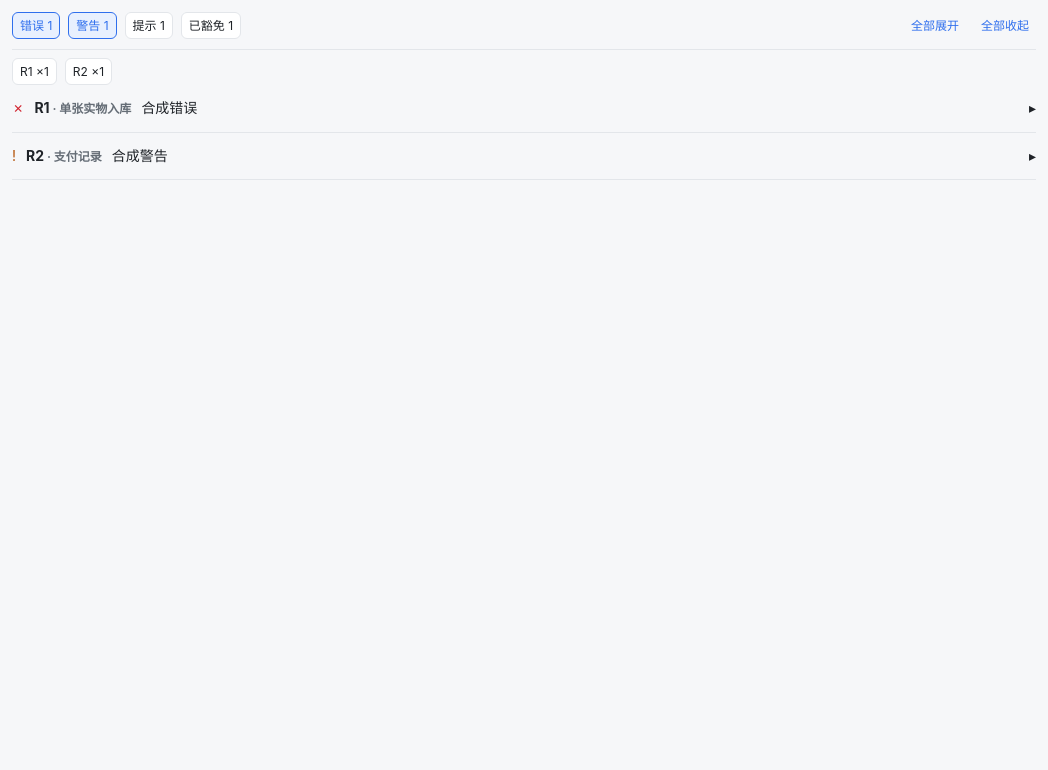
Test case: 级别 chips 默认选错误和警告，按严重级合并排序，规则筛选和展开只作用于可见条目
Expected: the number of buttons "全部展开" is 1, left=904, top=13, right=966, bottom=38
Click the button "提示 1" at (149, 26), box left=125, top=12, right=173, bottom=39
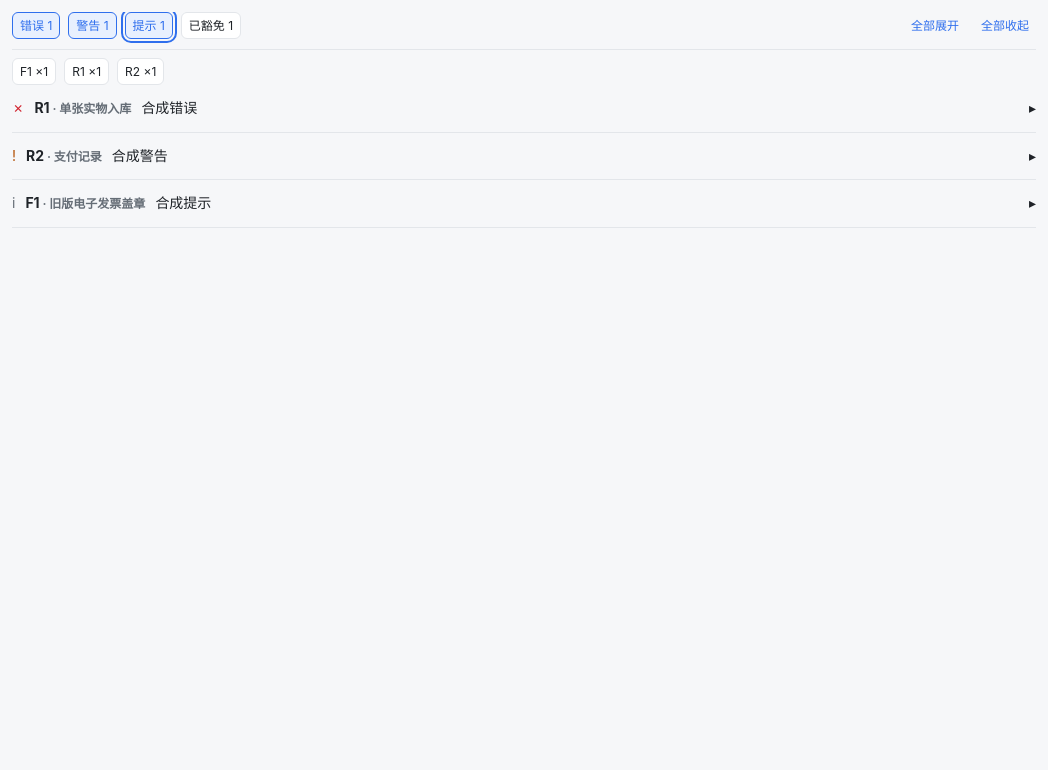
Click the button "已豁免 1" at (211, 26), box left=181, top=12, right=241, bottom=39
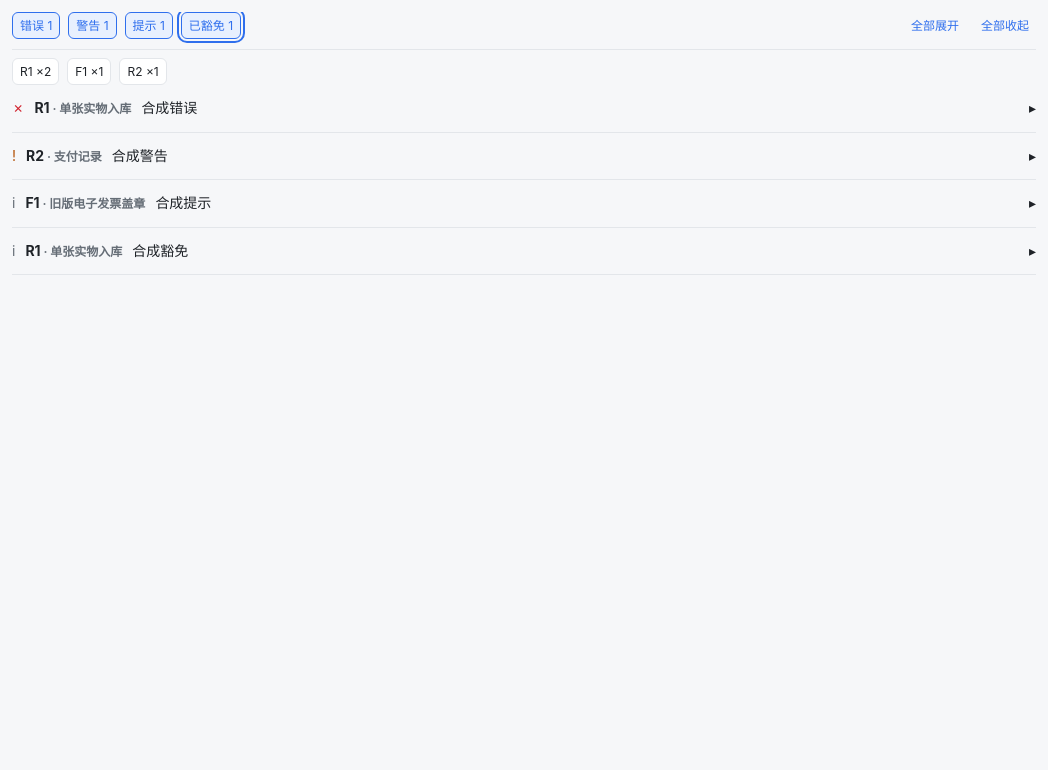
Click the button named "只看规则 R1" at (36, 72), box left=12, top=58, right=59, bottom=85
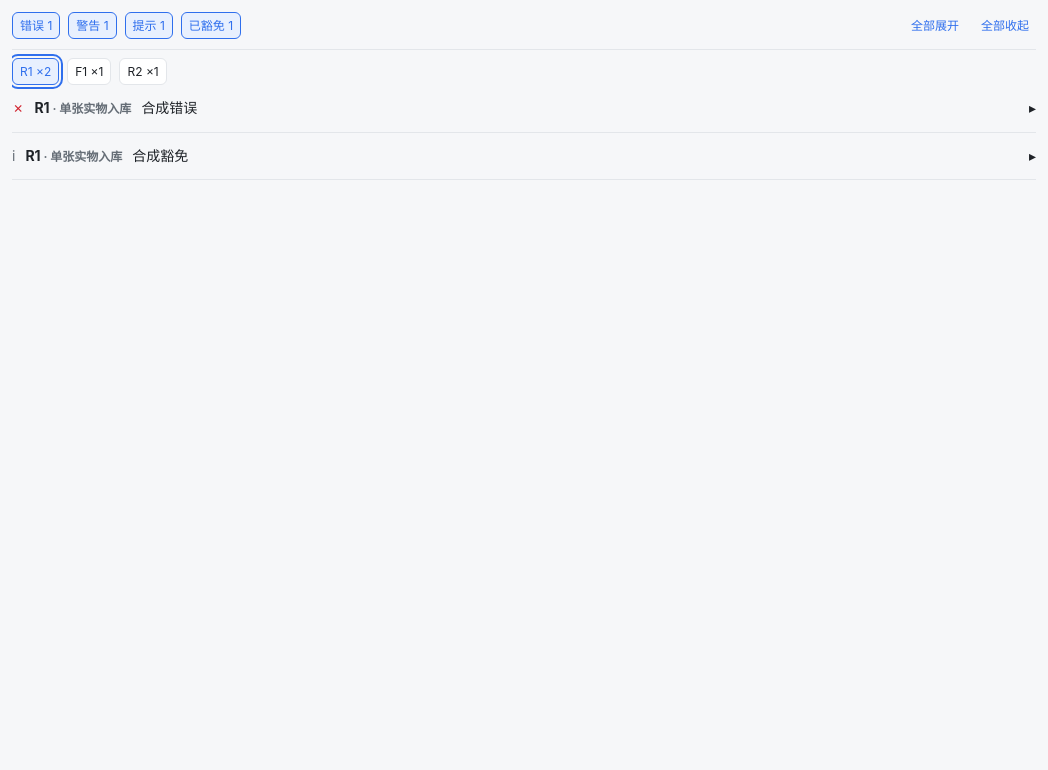
Expected: the button "合成警告" is gone
Click the button "全部展开" at (935, 26), box left=904, top=13, right=966, bottom=38
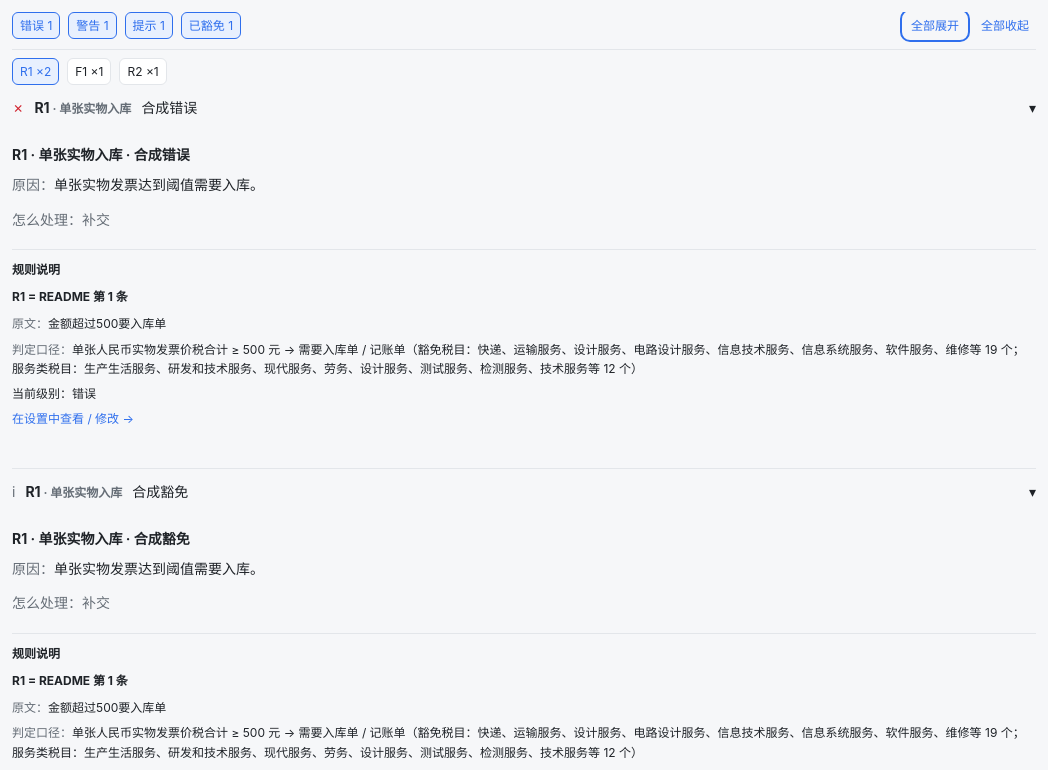
Expected: the text "怎么处理：" is shown 2 times, left=12, top=210, right=82, bottom=228; left=12, top=594, right=82, bottom=611
Click the button "全部收起" at (1005, 26), box left=974, top=13, right=1036, bottom=38
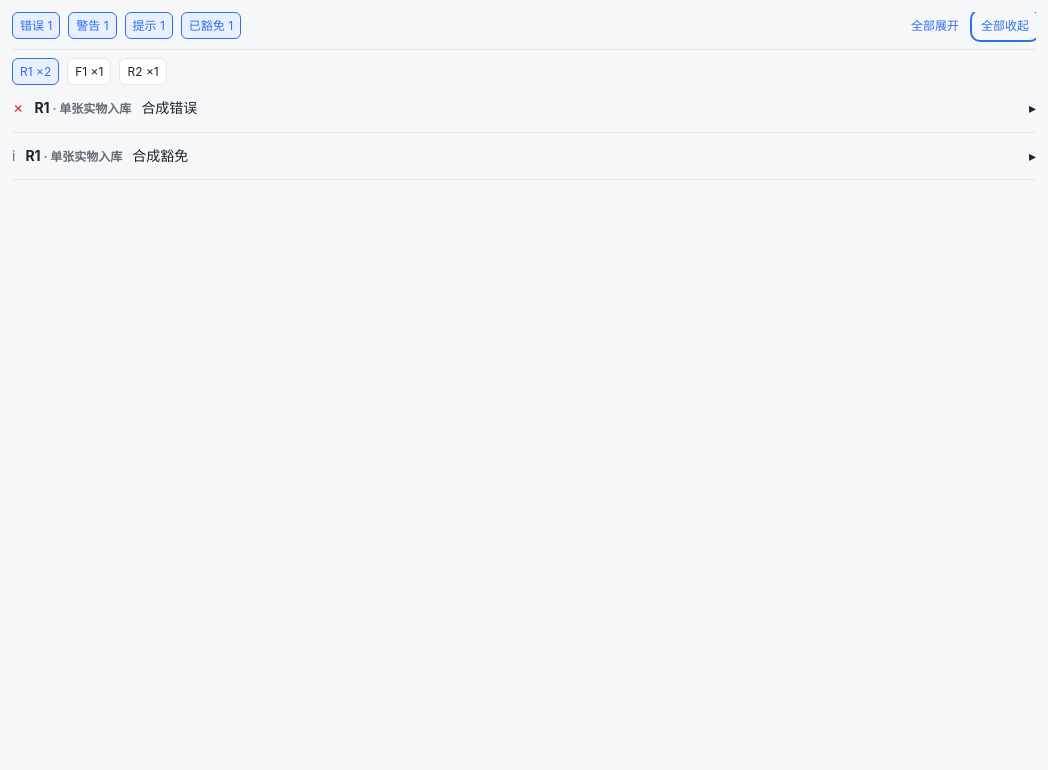
Expected: the text "怎么处理" is gone
